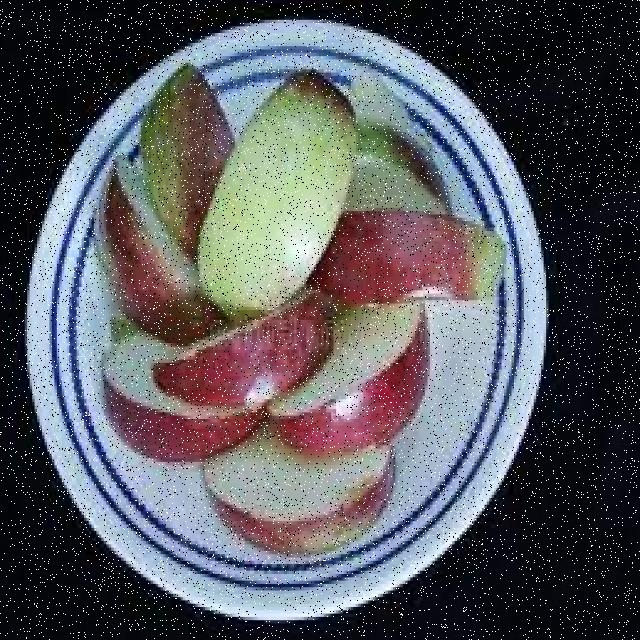Apple: (197, 67, 355, 318), (274, 299, 436, 452), (202, 445, 418, 546), (320, 212, 506, 312), (94, 341, 221, 463), (161, 315, 324, 407), (89, 164, 180, 308), (154, 55, 222, 240), (349, 139, 464, 215)
